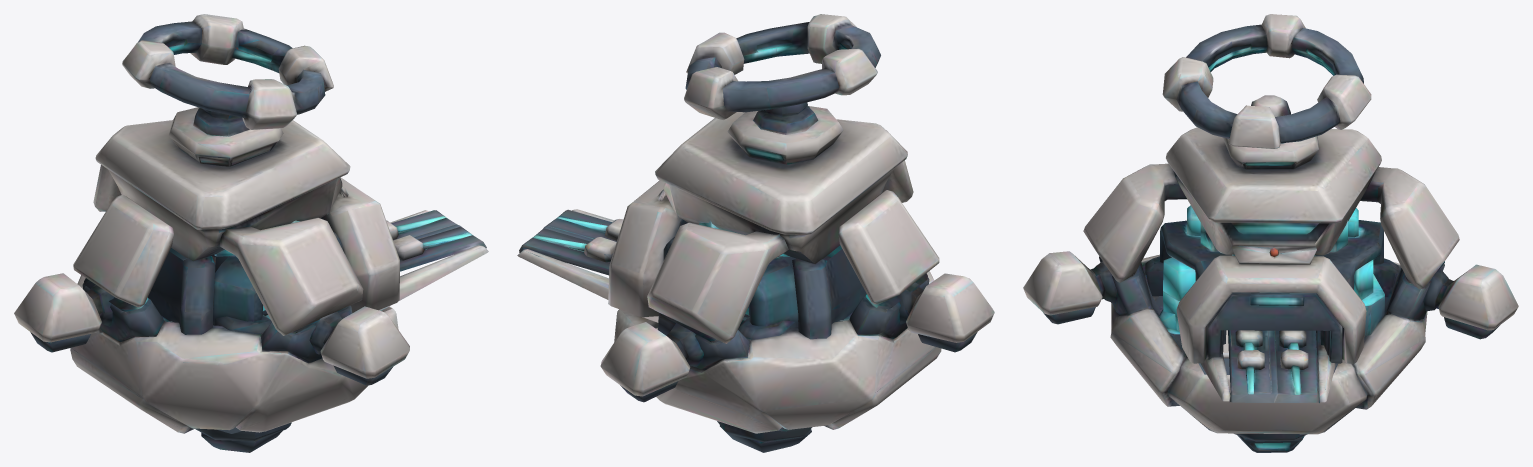
Rendered from mecha_factory.glb.
3 views of the same model, side by side, from view 1: azimuth 30°, elevation 25°; view 2: azimuth 150°, elevation 25°; view 3: azimuth 270°, elevation 25° (orthographic). The views are drawn at different scales.
Parts seen in each view (by area): view 1: tripo_node_d66a9a50-11f1-4977-9556-8ae4c7a94046; view 2: tripo_node_d66a9a50-11f1-4977-9556-8ae4c7a94046; view 3: tripo_node_d66a9a50-11f1-4977-9556-8ae4c7a94046.
Boxes of the visible parts, x1,y1,x2,y2 form: tripo_node_d66a9a50-11f1-4977-9556-8ae4c7a94046: (14,14,488,452); tripo_node_d66a9a50-11f1-4977-9556-8ae4c7a94046: (517,14,994,452); tripo_node_d66a9a50-11f1-4977-9556-8ae4c7a94046: (1023,14,1518,452).
Size of the model in its own units: 0.959 by 0.877 by 0.998.
Materials: 1 (1 with a texture image).
